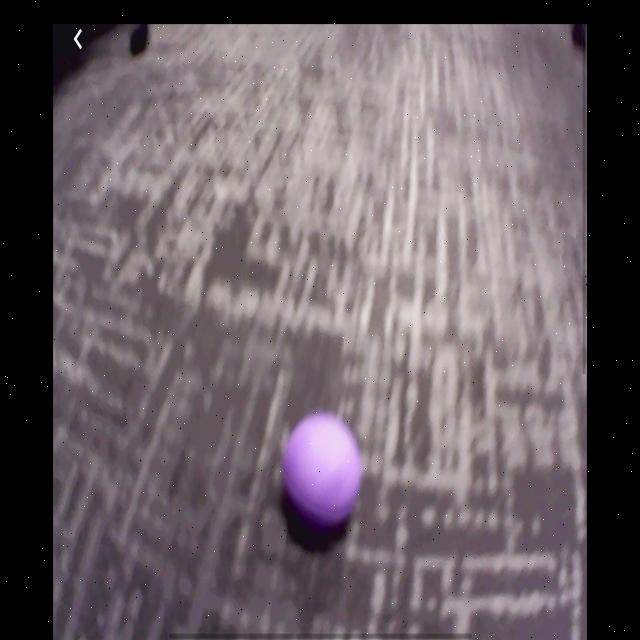ball: (282, 411, 364, 530)
